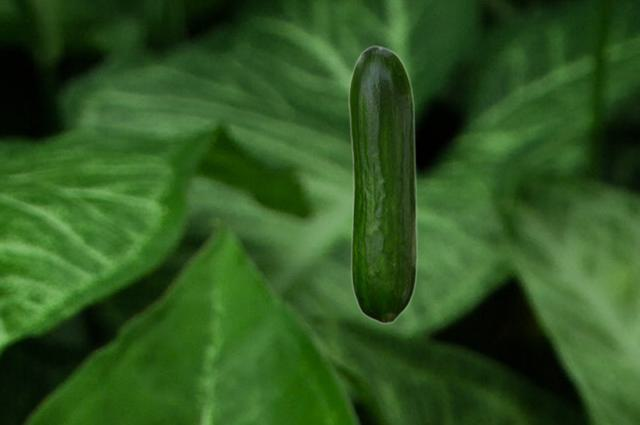cucumber: (348, 45, 417, 323)
